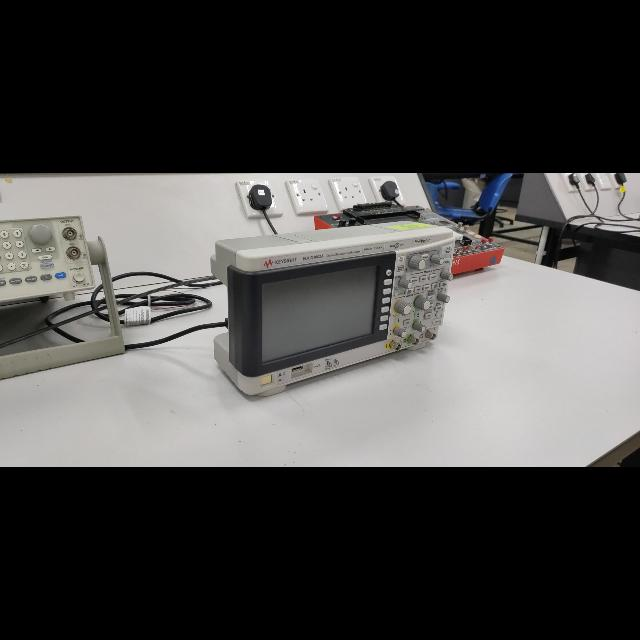Digital-Oscilloscope: (209, 220, 455, 398)
